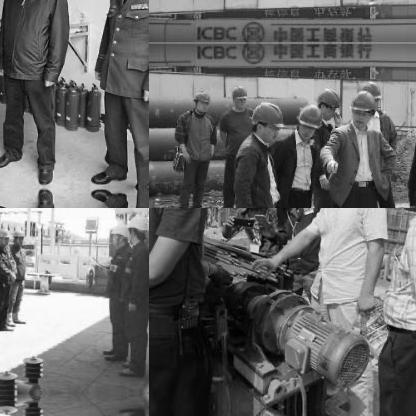Helmet: (248, 101, 282, 141), (348, 90, 376, 126), (294, 103, 321, 139), (360, 76, 384, 110), (315, 88, 339, 121), (106, 218, 128, 250), (126, 212, 148, 240), (228, 84, 248, 110), (191, 89, 210, 113), (10, 226, 24, 247), (359, 0, 386, 9), (0, 222, 10, 244), (227, 0, 249, 2)
